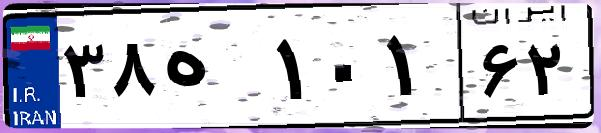0: (330, 28, 385, 110)
1: (270, 28, 330, 110), (385, 28, 445, 110)
2: (525, 38, 570, 115)
3: (57, 26, 110, 100)
6: (475, 38, 525, 113)
8: (110, 28, 158, 98)
ه: (158, 20, 270, 120)
